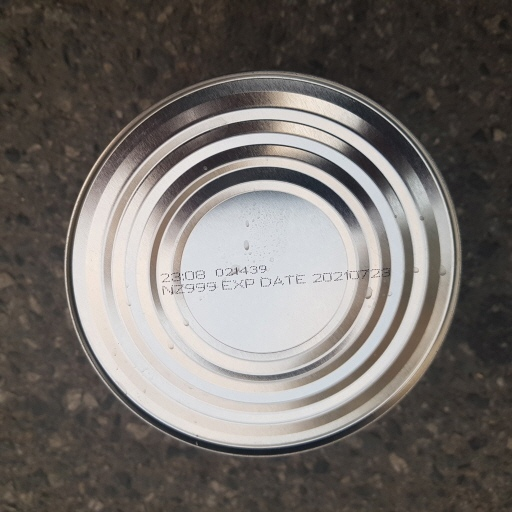Metal_1: (61, 69, 463, 459)
